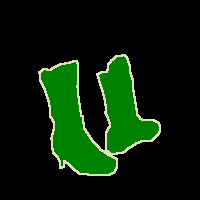shoe: (39, 60, 117, 175), (97, 54, 160, 154)
